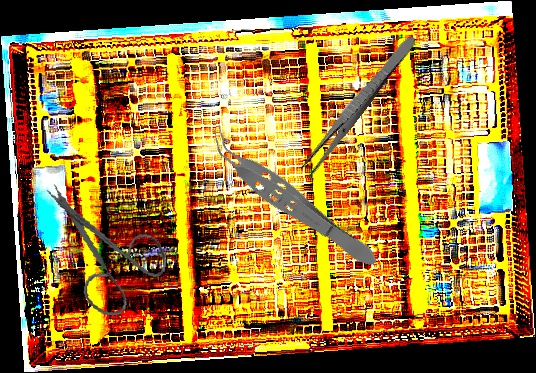Dressing Forceps: (297, 30, 419, 180)
Iris Scissors: (23, 181, 178, 325)
Tissue Forceps: (198, 123, 386, 277)
